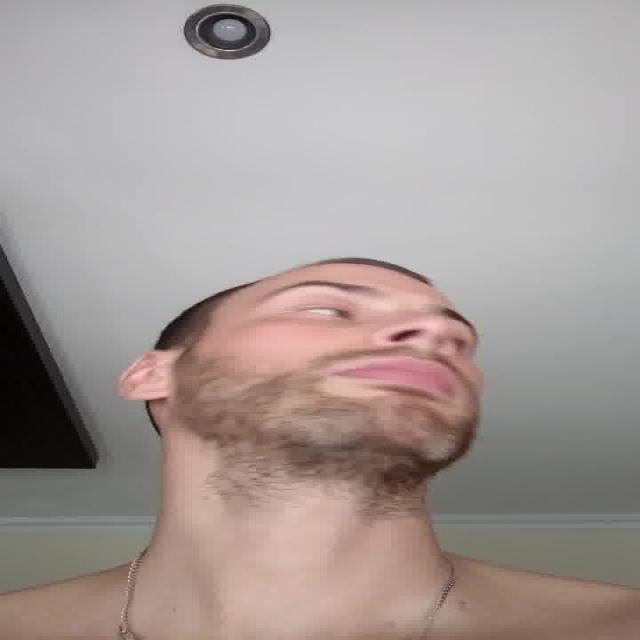earlobe: (119, 350, 176, 401)
